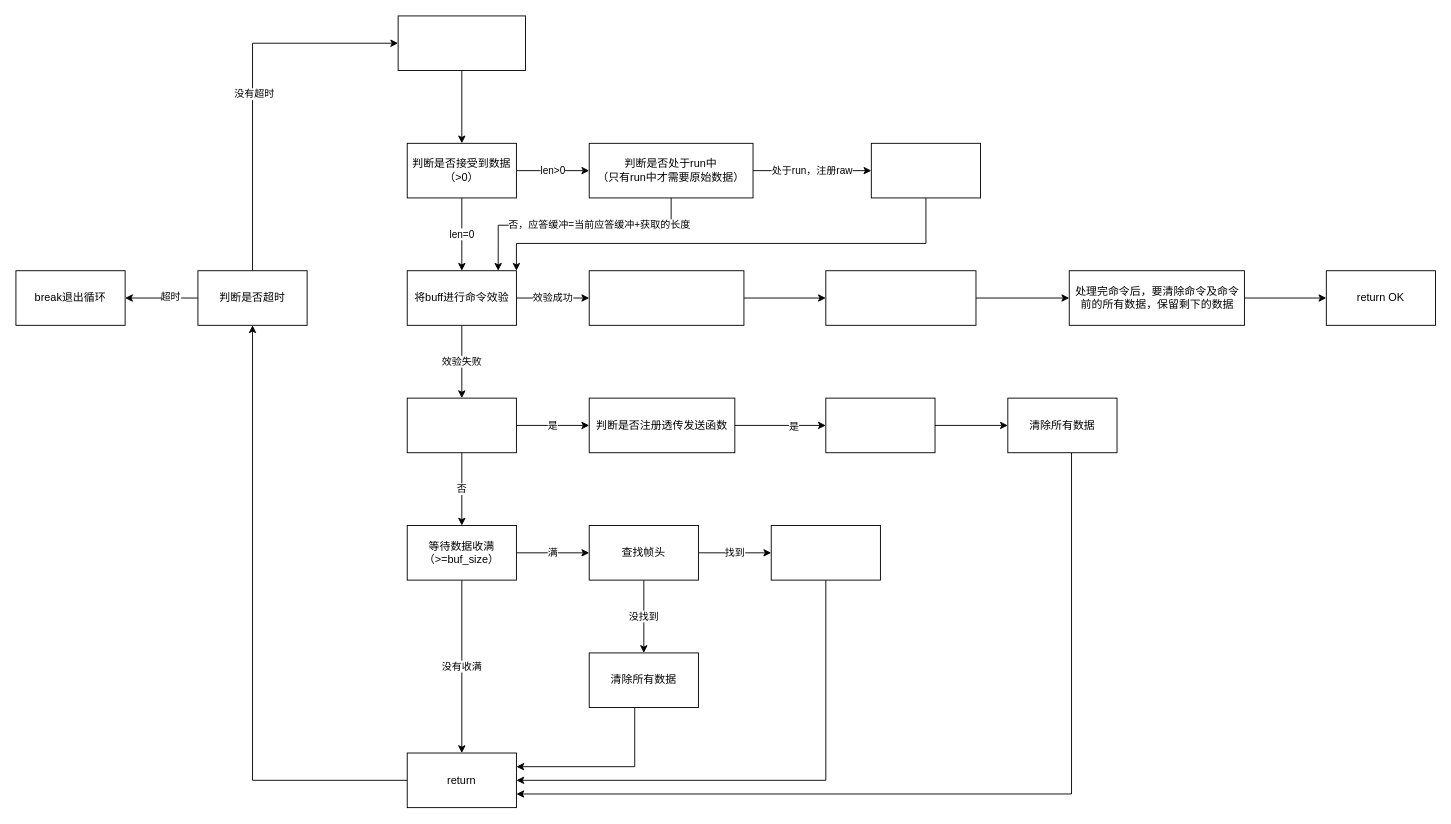
Image size: 1451x824. Some labels were removed from this diagram. Here are the shapes that lost their labels. From the top down, the box of each, then its label:
(397, 15, 526, 71): 接收数据到buff
(870, 142, 981, 198): 回调raw处理函数
(588, 270, 744, 325): 获取该命令的参数 （cmd类型，数据，addr...）
(825, 270, 976, 325): 执行对应该命令的操作 （函数指针）
(406, 397, 516, 453): 判断是否是透传命令
(825, 397, 935, 453): 调用透传函数
(770, 525, 880, 580): 将帧头移植最前面
